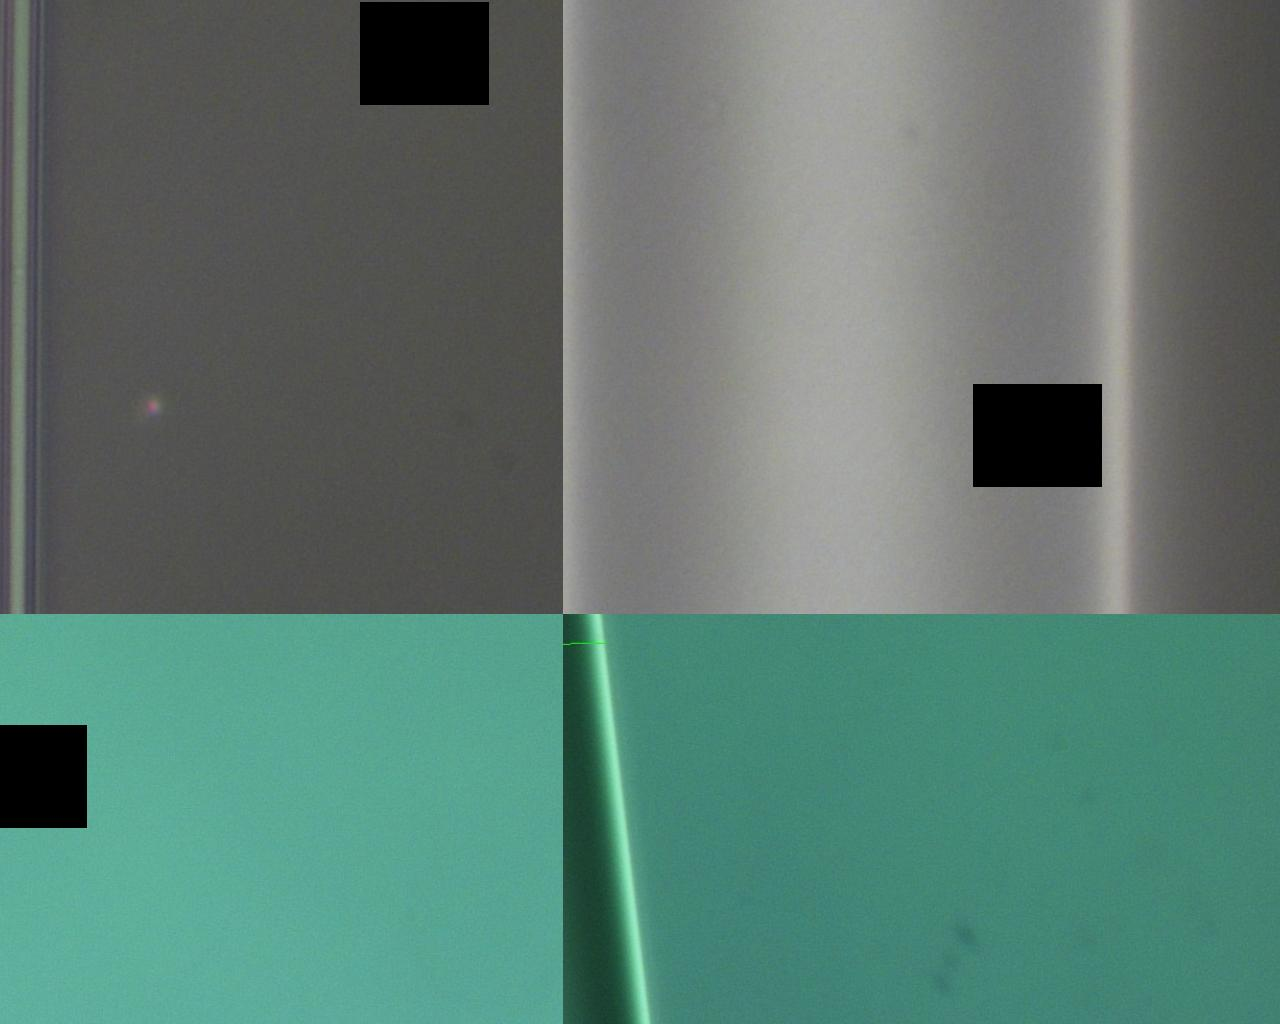fiber: (127, 266, 1151, 861)
